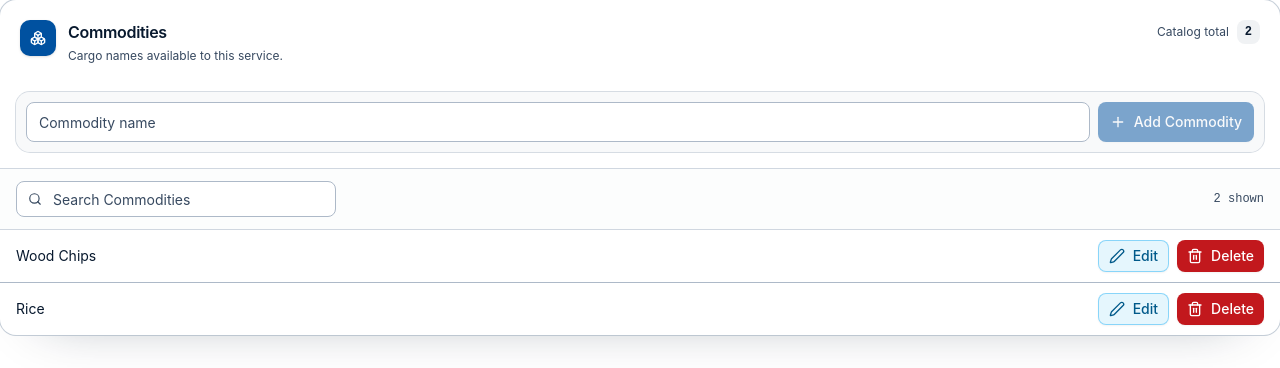
Test: CommoditiesTable hidden internal code contract › filters by Commodity name and keeps a six-row scroll viewport
Expected: the element named "Commodities catalog" is shown, top-left (0, 230), bottom-right (1279, 335)
Type "rice" into the search field labelled "Search Commodities" at (176, 199), box top-left (16, 181), bottom-right (336, 217)
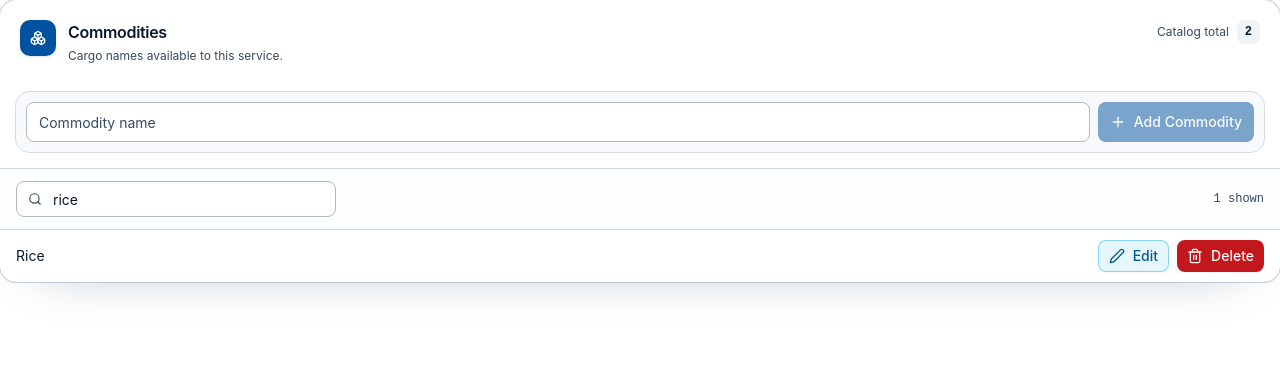
Expected: the text "Rice" is shown, top-left (0, 230), bottom-right (1082, 282)
Expected: the text "Wood Chips" is gone
Expected: the text "1 shown" is shown, top-left (1214, 191), bottom-right (1264, 207)
